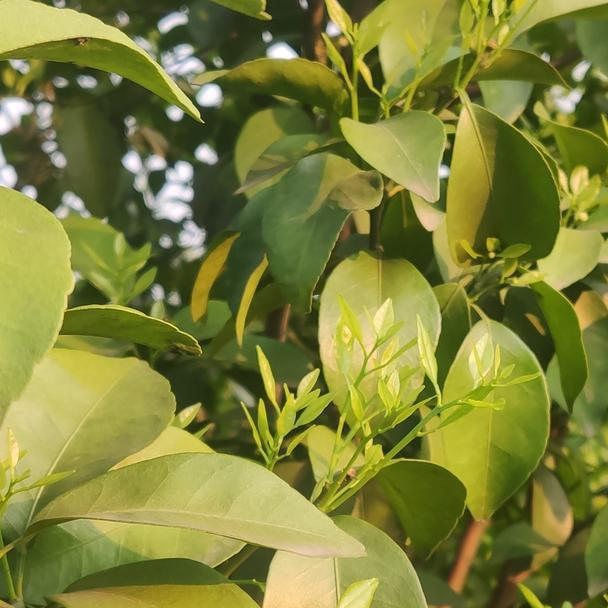shoot: (410, 320, 534, 457), (247, 356, 328, 473), (333, 304, 417, 414), (352, 380, 429, 477)
